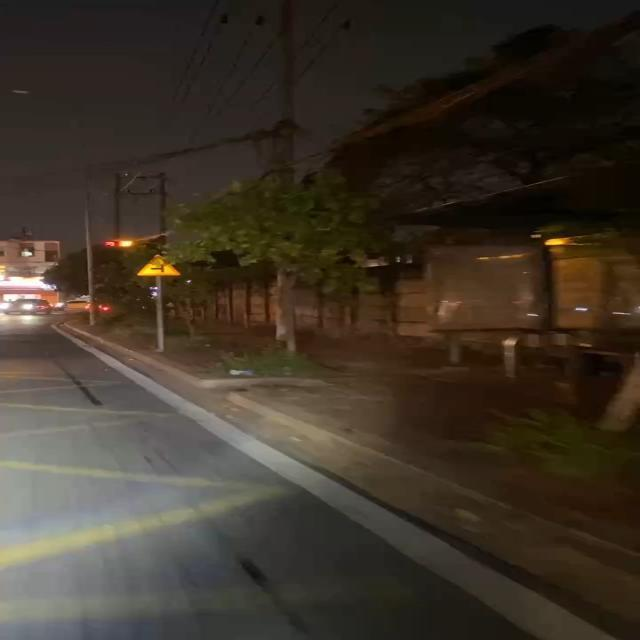205-duong-giao-nhau: (136, 255, 184, 278)
